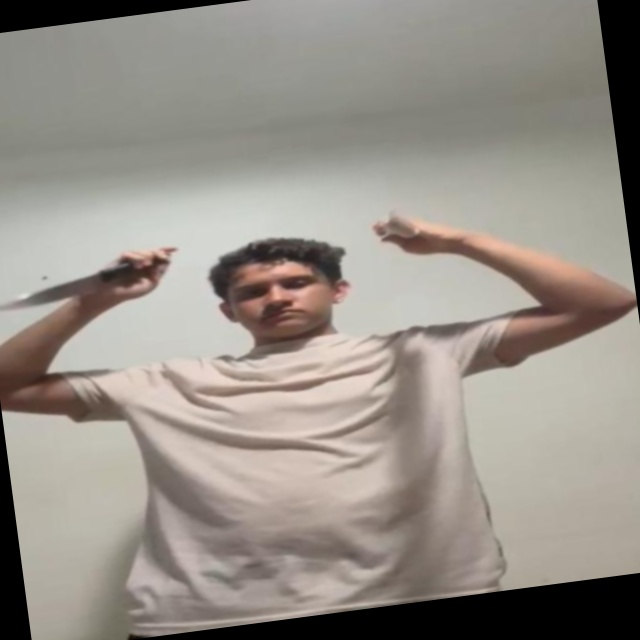Sharp-Object: (2, 270, 109, 310)
